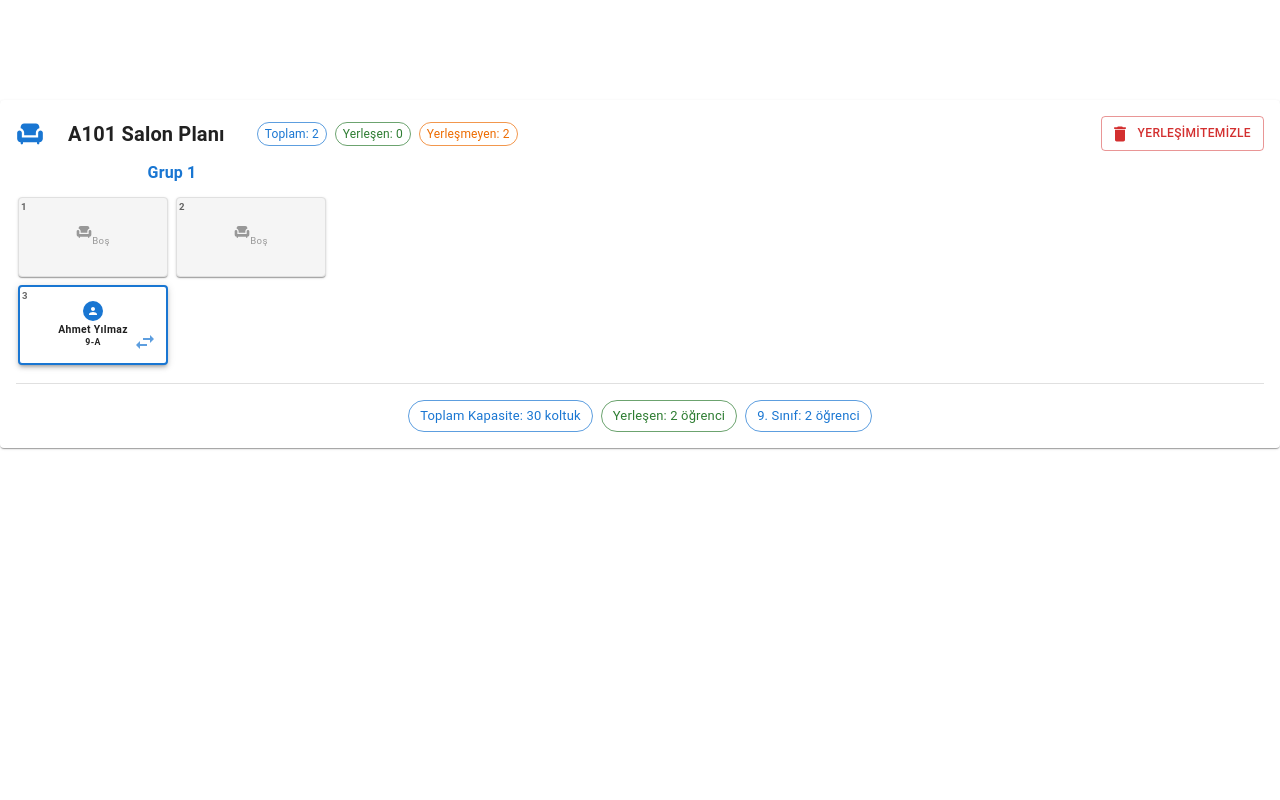
SalonPlani Component › should handle seat click for student details
Click the text "Ahmet Yılmaz" at [93, 329], box [58,322,128,336]
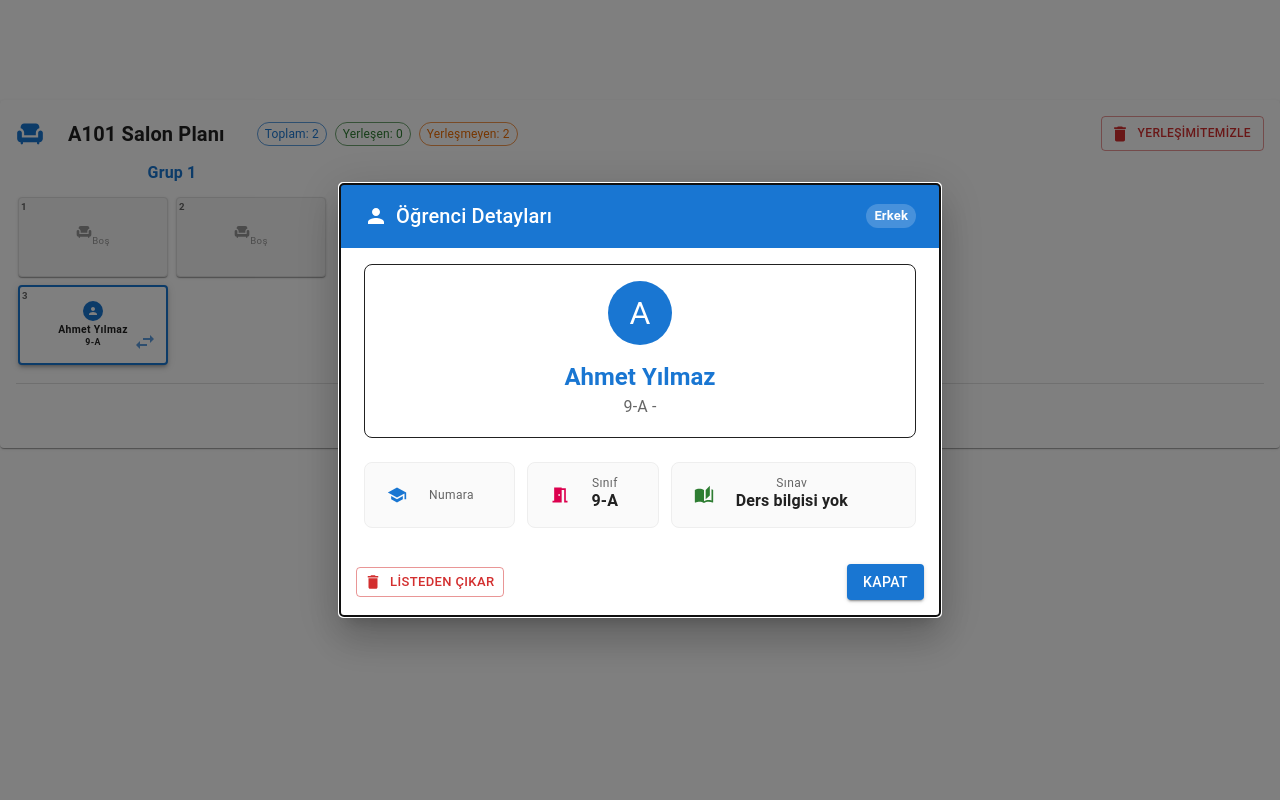
Expected: the heading "Öğrenci Detayları" is shown, [396,200,552,232]
